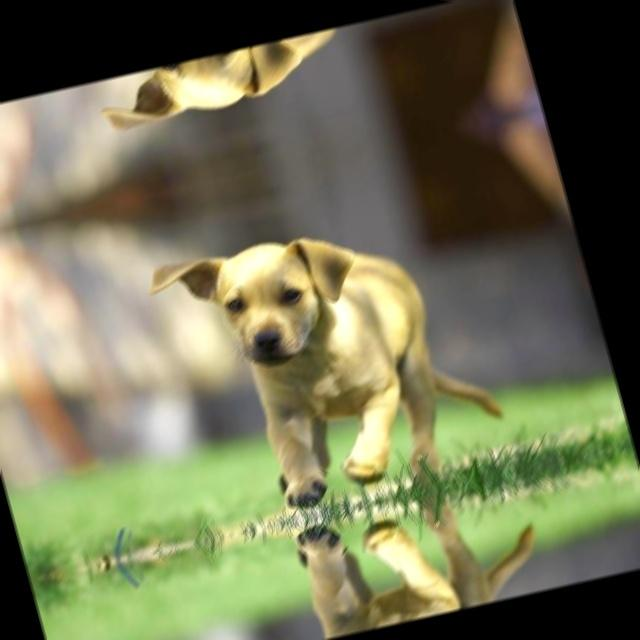dog: (135, 181, 523, 526), (215, 479, 558, 640), (89, 12, 421, 151)
